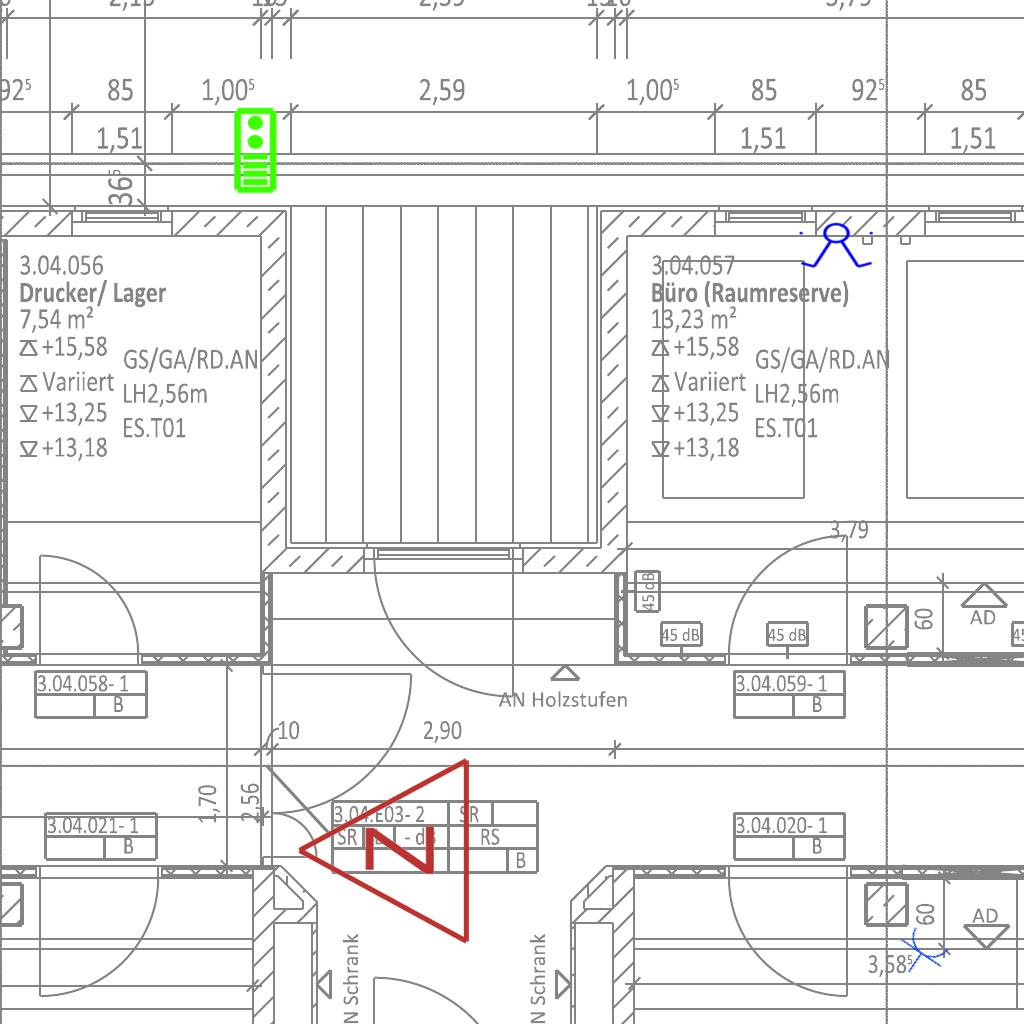Gegensprechanlage_mit_Video: (231, 106, 278, 194)
Schukosteckdose_einfach: (888, 922, 954, 987)
Serienschalter: (795, 222, 879, 270)
Zimmersignalleuchte: (284, 755, 484, 951)
